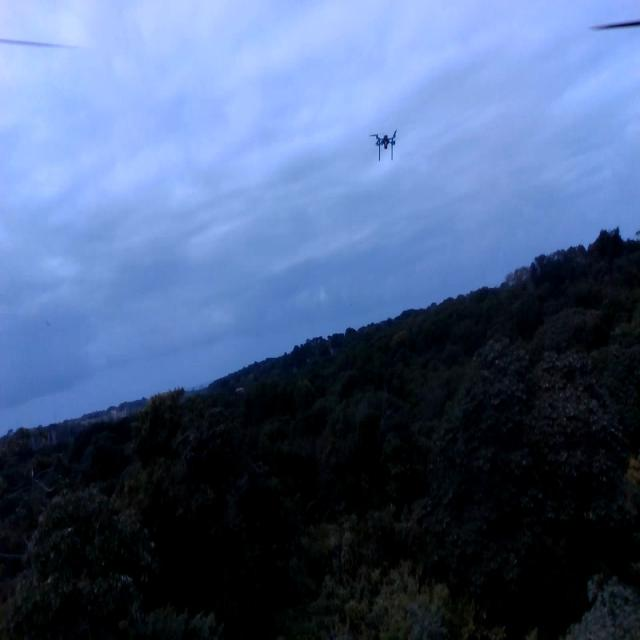-uav-: (366, 110, 401, 178)
